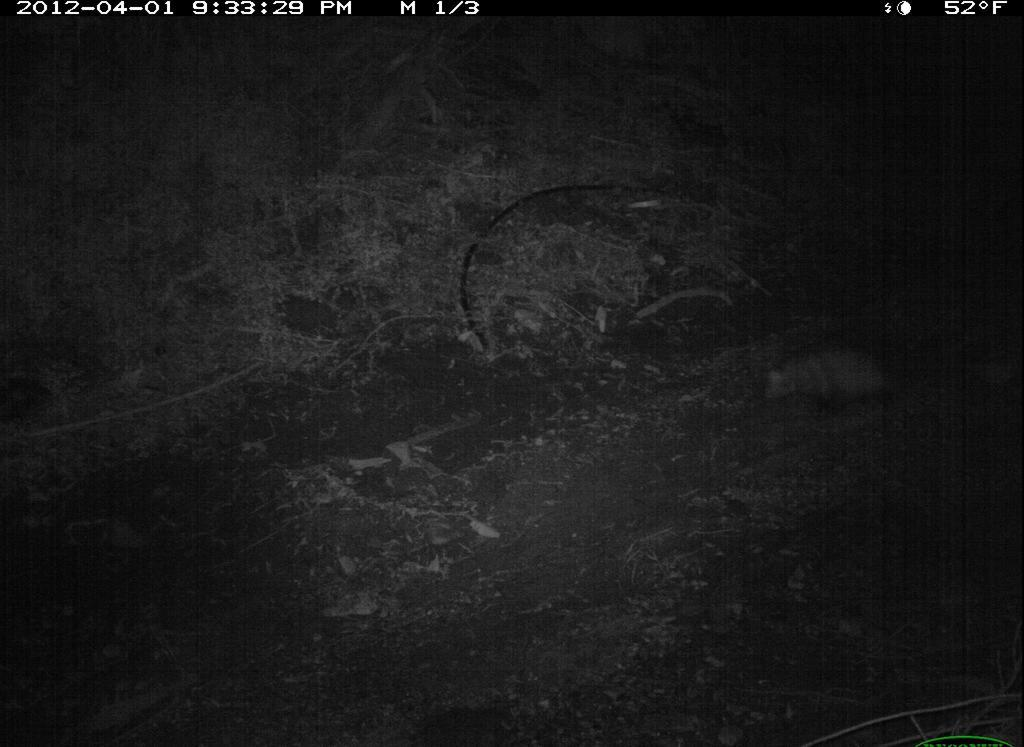opossum: (751, 332, 935, 441)
